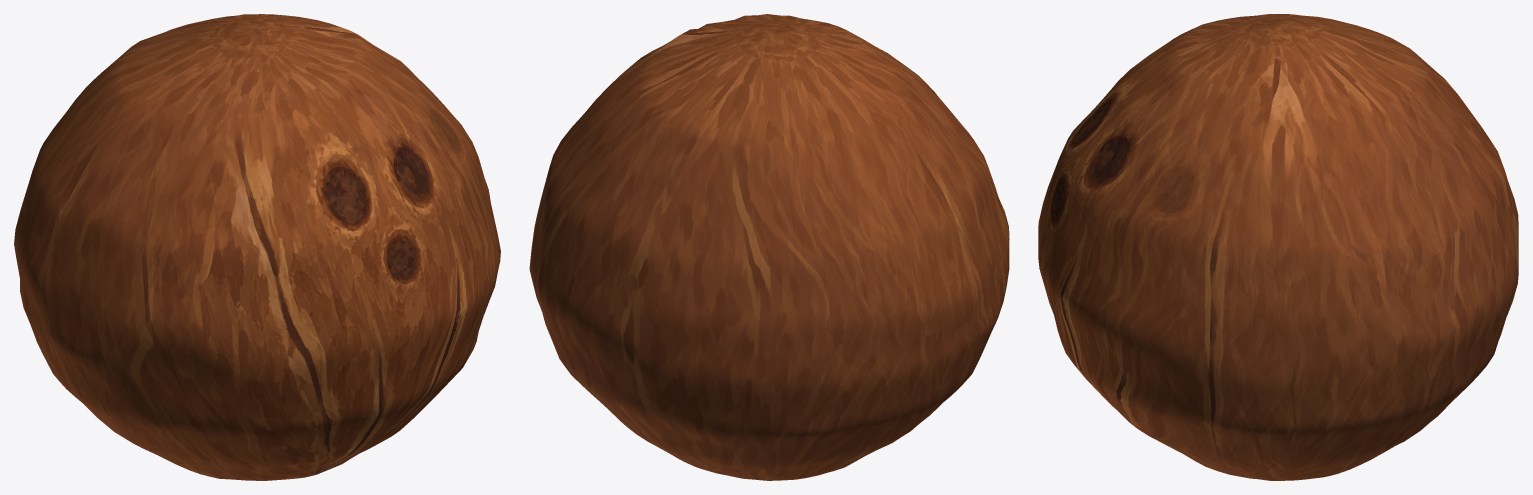
File: Meshy_AI_Coconut_Bowling_Ball_20261026_texture.fbx
The picture shows the model from 3 angles, left to right: view 1: azimuth 30°, elevation 25°; view 2: azimuth 150°, elevation 25°; view 3: azimuth 270°, elevation 25°; orthographic projection.
Visible parts, largest first — view 1: Mesh_0; view 2: Mesh_0; view 3: Mesh_0.
Part boxes in pixels (<box>): Mesh_0: <box>14,14,500,480</box>; Mesh_0: <box>529,14,1009,480</box>; Mesh_0: <box>1038,14,1518,480</box>.
Bounding box in the file's own units: 100 × 99.82 × 100.
Materials: 1 (1 with a texture image).
